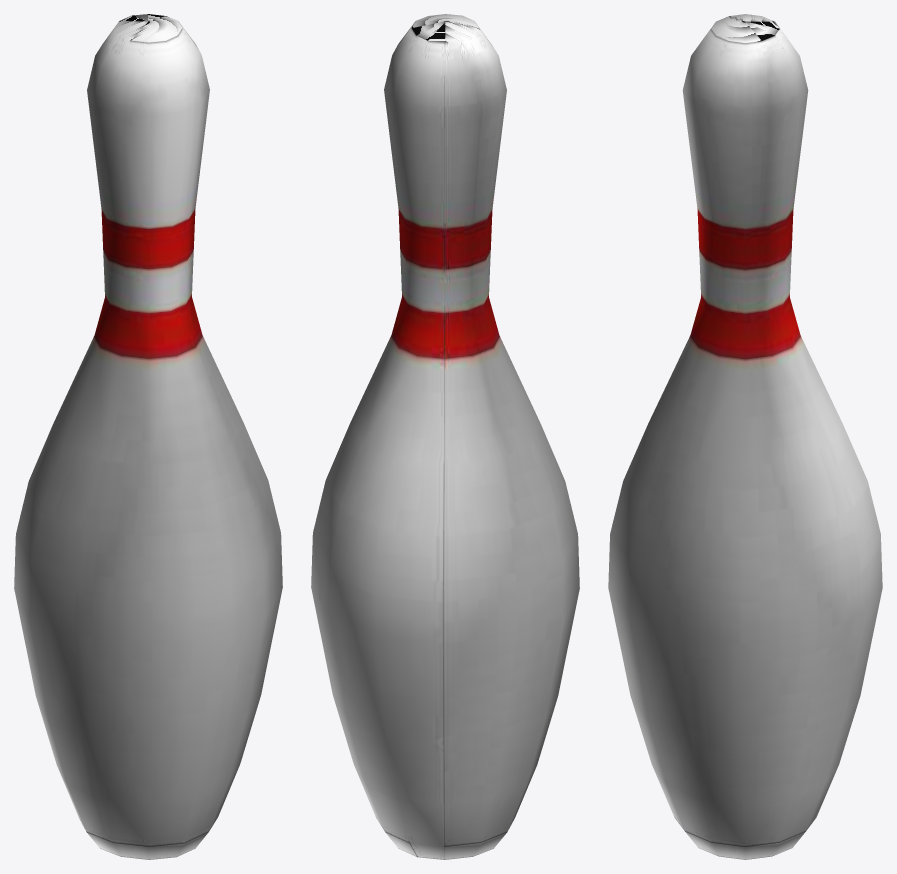
The model's file is bowlingPin_080422.dae.
3 renders of one model, left to right at view 1: azimuth 30°, elevation 25°; view 2: azimuth 150°, elevation 25°; view 3: azimuth 270°, elevation 25°, orthographic.
Visible parts, largest first — view 1: revolvedSurface1; view 2: revolvedSurface1; view 3: revolvedSurface1.
Boxes of the visible parts, bbox=[...] form: revolvedSurface1: bbox=[14, 14, 282, 859]; revolvedSurface1: bbox=[311, 14, 579, 859]; revolvedSurface1: bbox=[608, 14, 882, 859].
Bounding box in the file's own units: 0.9122 × 2.99 × 0.9122.
